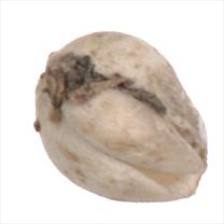L1: (33, 42, 96, 103), (187, 123, 209, 200)
L2: (34, 31, 208, 203)
